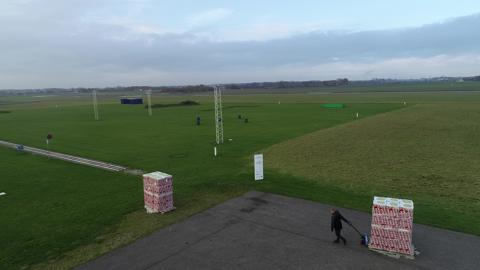RockwoolPallet: (141, 170, 174, 210)
